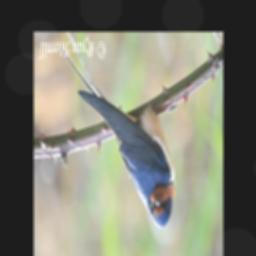Swallow: (59, 45, 177, 230)
